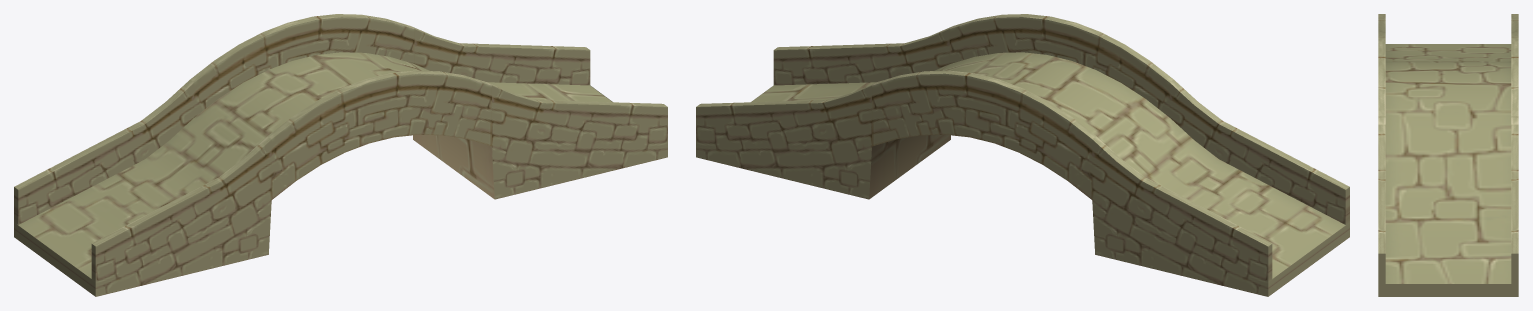
File: archbridge.FBX
3 views of the same model, side by side, from view 1: azimuth 30°, elevation 25°; view 2: azimuth 150°, elevation 25°; view 3: azimuth 270°, elevation 25° (orthographic). The views are drawn at different scales.
Visible parts, largest first — view 1: archbridge; view 2: archbridge; view 3: archbridge.
Boxes of the visible parts, x1,y1,x2,y2 form: archbridge: (14,14,667,296); archbridge: (696,14,1349,296); archbridge: (1378,14,1518,296).
Size of the model in its own units: 799 by 197 by 197.
